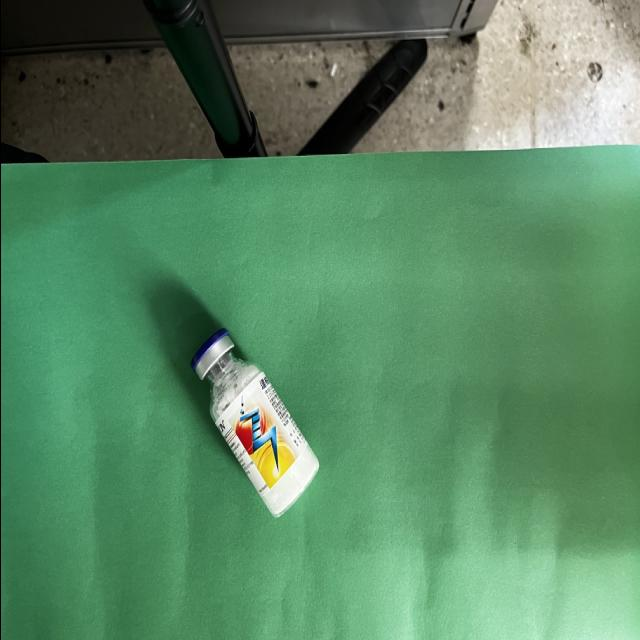Vials: (192, 329, 318, 516)
